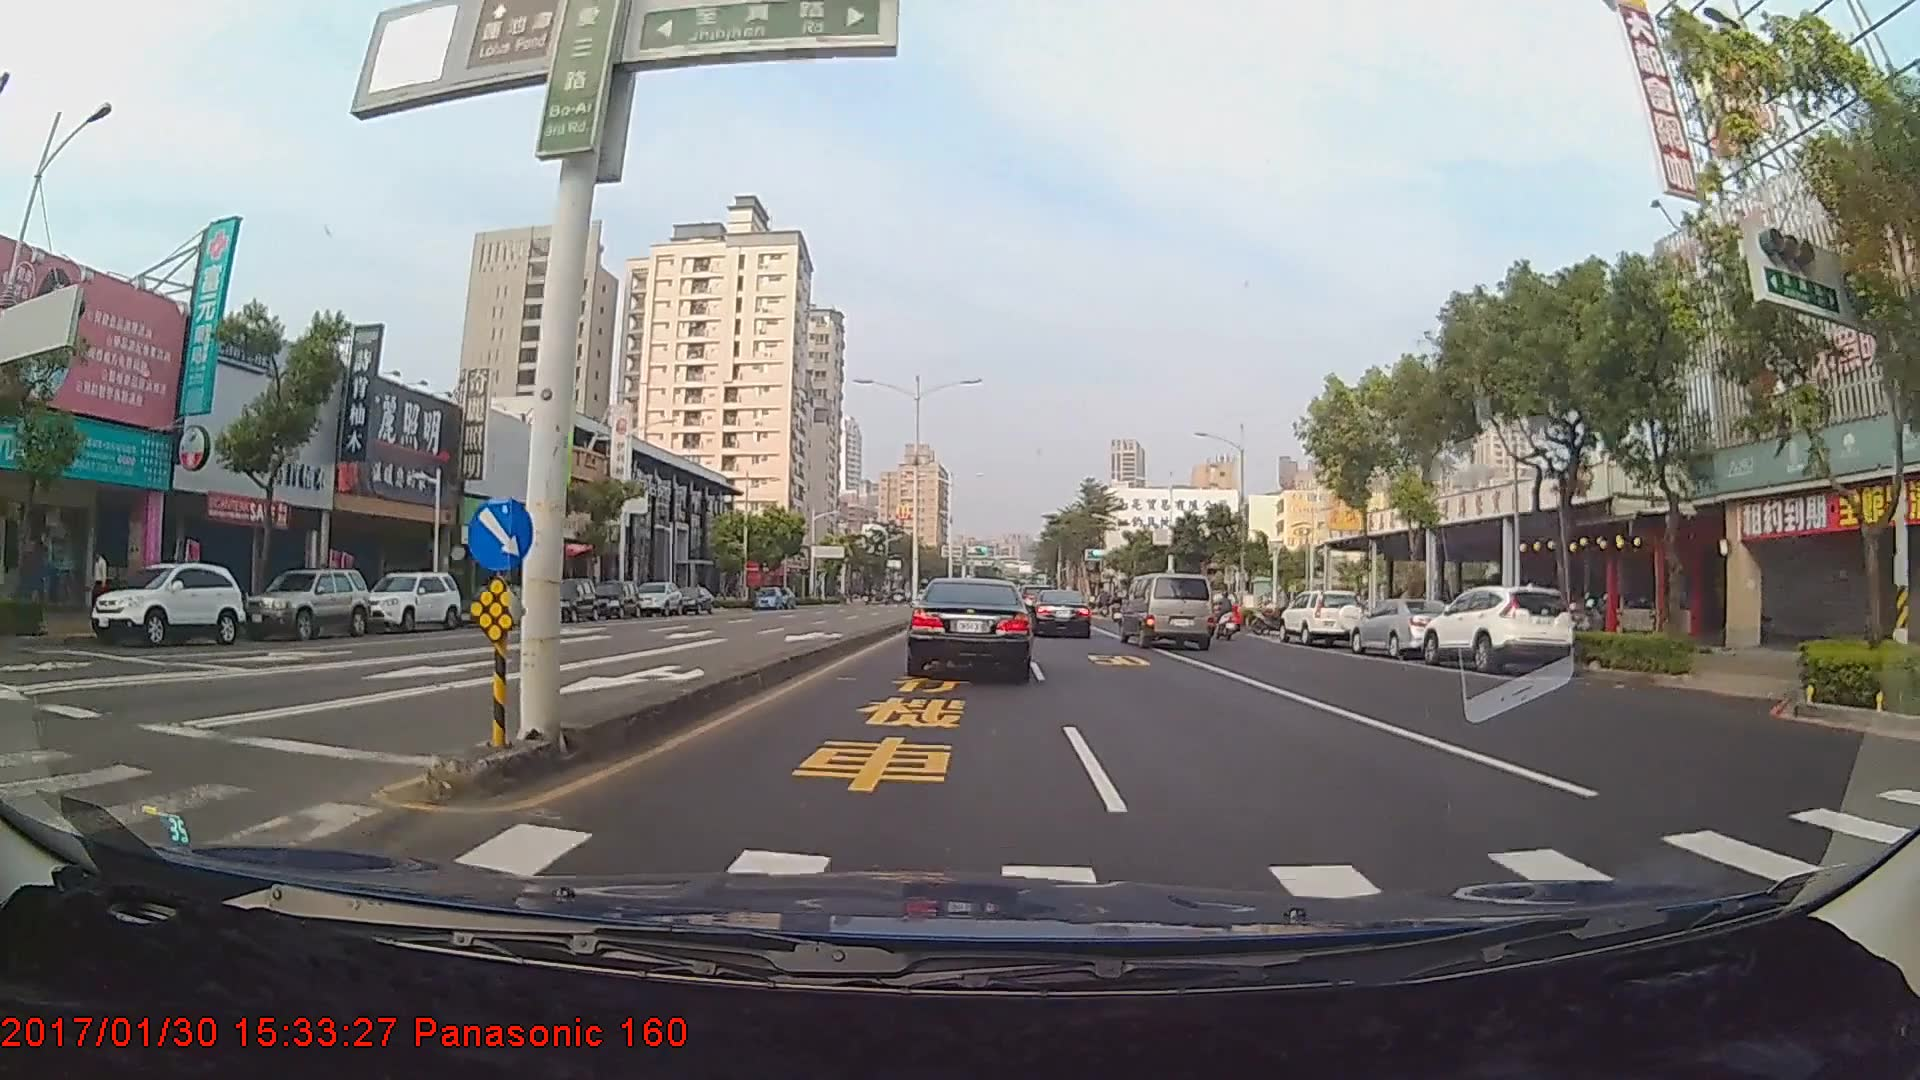pedestrian: (92, 552, 112, 619)
rider: (1211, 591, 1242, 642)
vehicle: (1419, 583, 1577, 675), (87, 564, 242, 647), (908, 577, 1032, 673), (243, 568, 368, 642), (1118, 572, 1213, 651), (1349, 597, 1462, 659), (357, 570, 460, 631), (1279, 591, 1365, 647), (1027, 590, 1092, 639), (535, 577, 601, 624), (589, 577, 639, 620), (632, 579, 684, 618), (671, 584, 715, 613), (752, 583, 782, 609)
